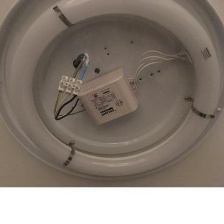light_bulb: (3, 0, 224, 184)
